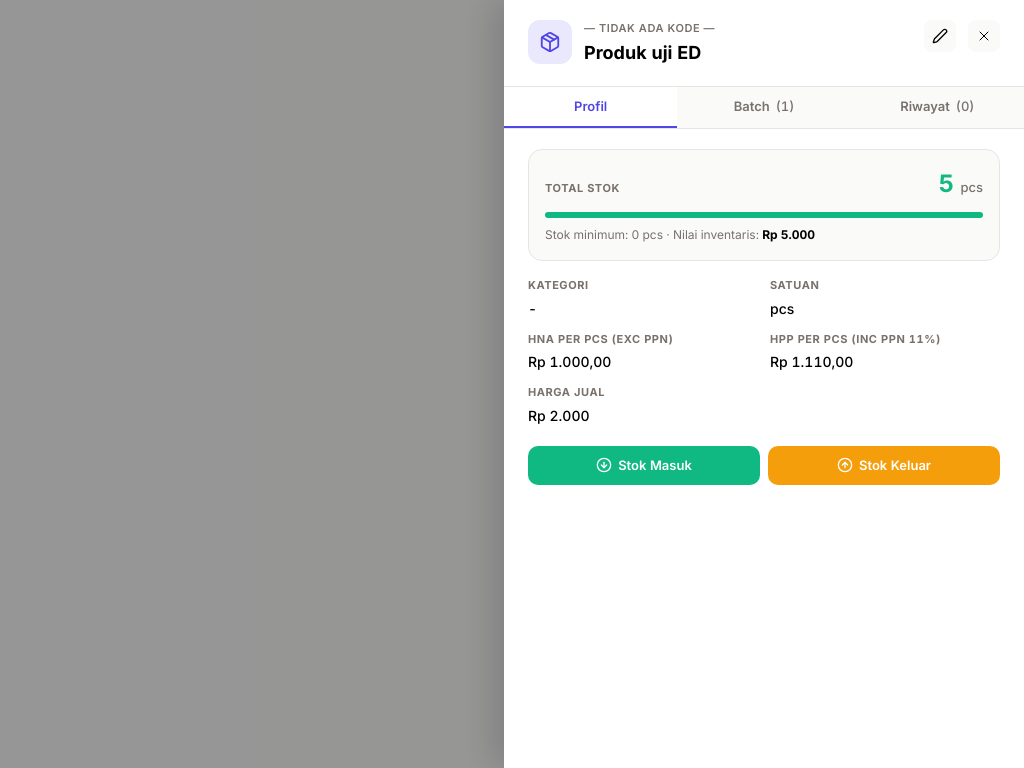
Test: ProductDrawer status ED › status timestamp legacy memakai tanggal sumber, bukan hasil konversi UTC
Click the button "Batch(1)".
click(764, 107)  # box [677,86,851,128]
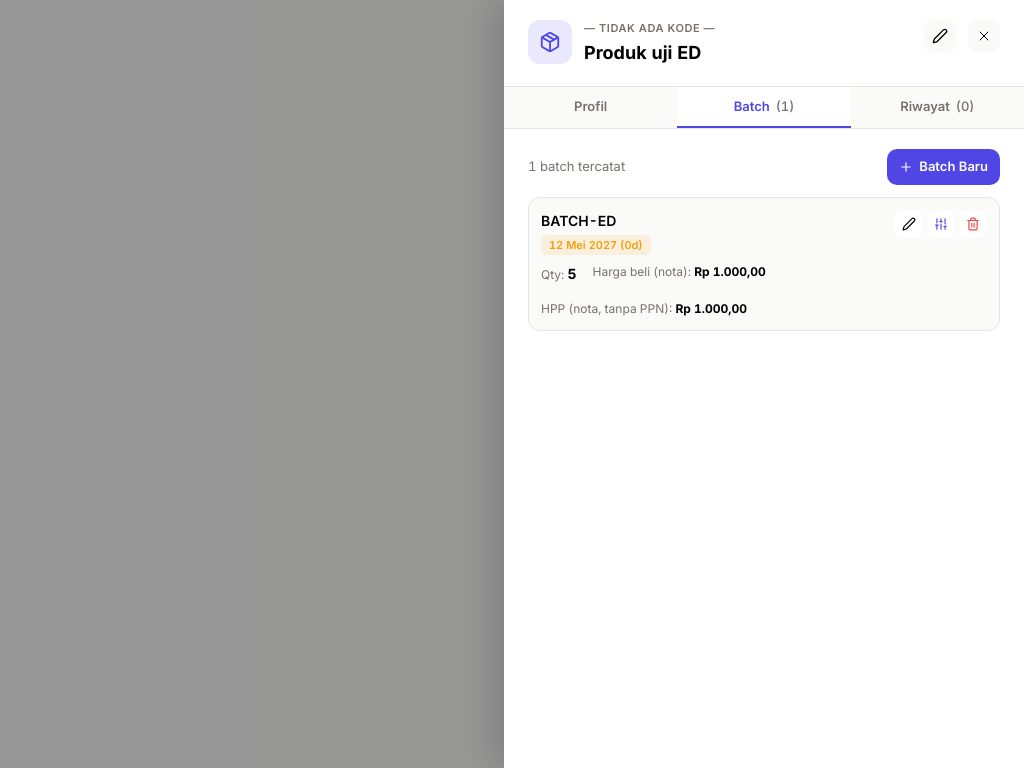
Expected: the text "12 Mei 2027 (0d)" is shown, [541,234,651,255]
